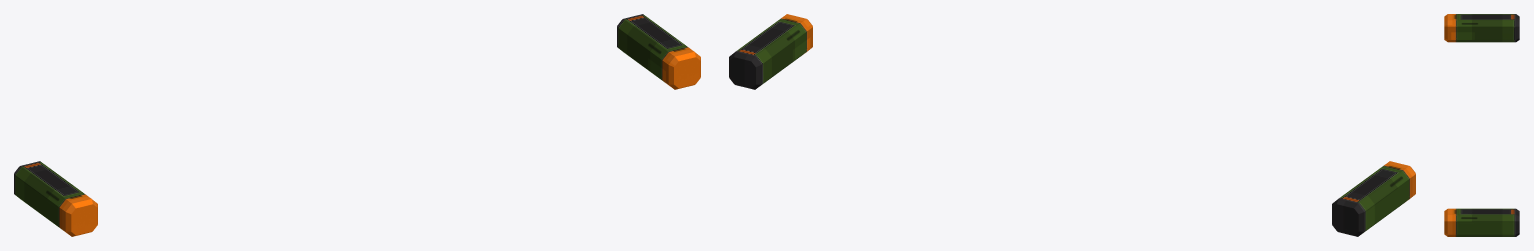
Rendered from Mod-J_blue.FBX.
The picture shows the model from 3 angles, left to right: view 1: azimuth 30°, elevation 25°; view 2: azimuth 150°, elevation 25°; view 3: azimuth 270°, elevation 25°; orthographic projection. The views are drawn at different scales.
Visible parts, largest first — view 1: Mod-J_Left, Mod-J_Right; view 2: Mod-J_Left, Mod-J_Right; view 3: Mod-J_Left, Mod-J_Right.
Boxes of the visible parts, left/top/right/bottom form: Mod-J_Left: left=617, top=14, right=700, bottom=89; Mod-J_Right: left=14, top=161, right=97, bottom=236; Mod-J_Left: left=729, top=14, right=812, bottom=89; Mod-J_Right: left=1332, top=161, right=1415, bottom=236; Mod-J_Left: left=1444, top=208, right=1519, bottom=236; Mod-J_Right: left=1444, top=14, right=1519, bottom=42.
Size of the model in its own units: 17107 by 2650 by 856.
